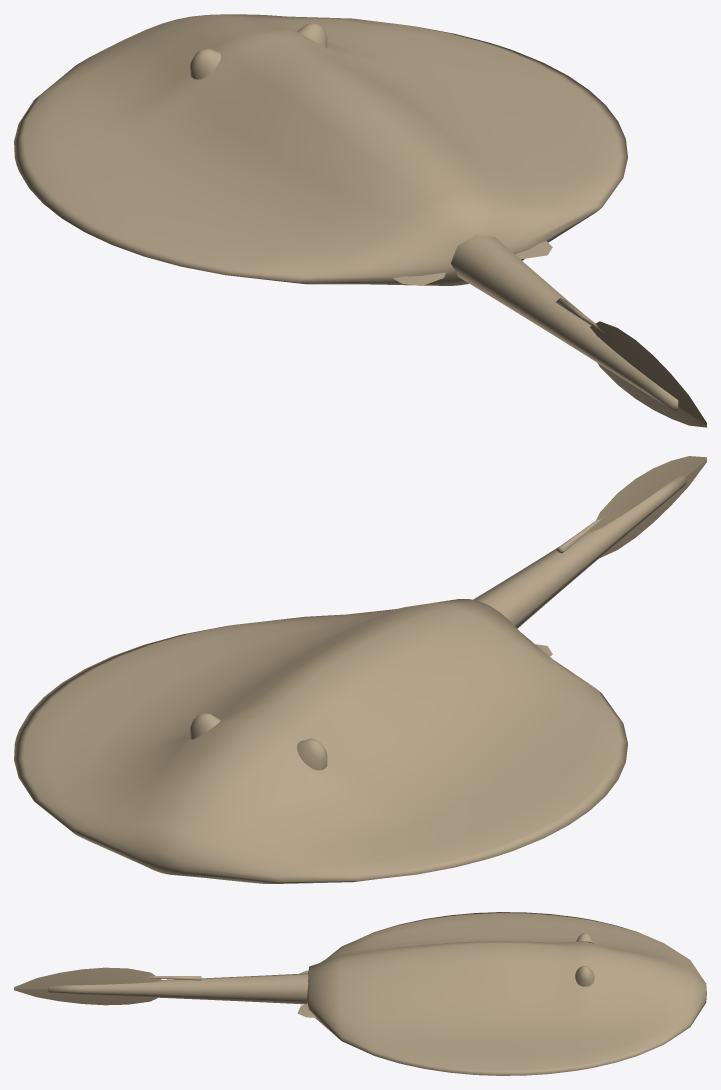
The model's file is round_stingray_game.glb.
3 renders of one model, top to bottom at view 1: azimuth 30°, elevation 25°; view 2: azimuth 150°, elevation 25°; view 3: azimuth 270°, elevation 25°, orthographic. The views are drawn at different scales.
Parts seen in each view (by area): view 1: round_stingray_game; view 2: round_stingray_game; view 3: round_stingray_game.
Boxes of the visible parts, bbox=[...] form: round_stingray_game: bbox=[14, 14, 706, 427]; round_stingray_game: bbox=[14, 456, 706, 883]; round_stingray_game: bbox=[14, 912, 706, 1075].
Bounding box in the file's own units: 0.2799 × 0.0583 × 0.5.
